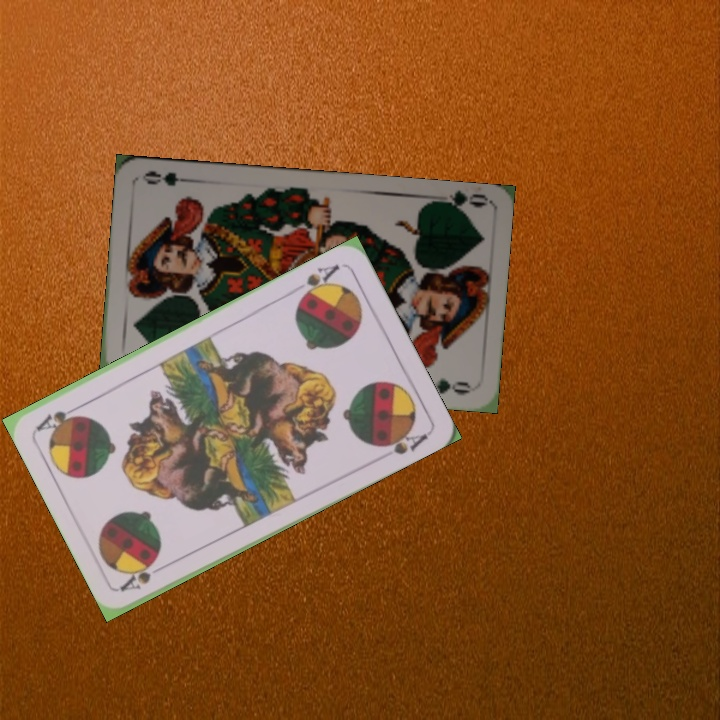GO: (428, 188, 488, 216)
SA: (116, 556, 171, 595), (295, 260, 342, 303)
